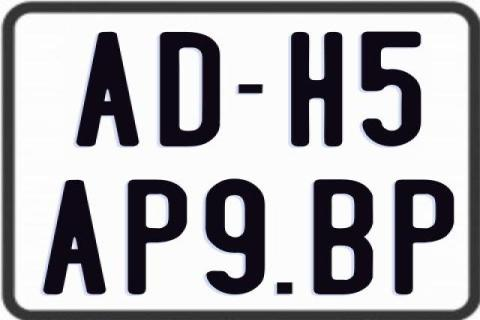0: (202, 176, 267, 293), (361, 31, 422, 148)
A: (75, 29, 141, 145), (40, 180, 104, 298)
B: (311, 178, 375, 296)
D: (159, 31, 219, 147)
H: (288, 31, 344, 148)
P: (126, 178, 190, 296), (392, 178, 452, 294)
